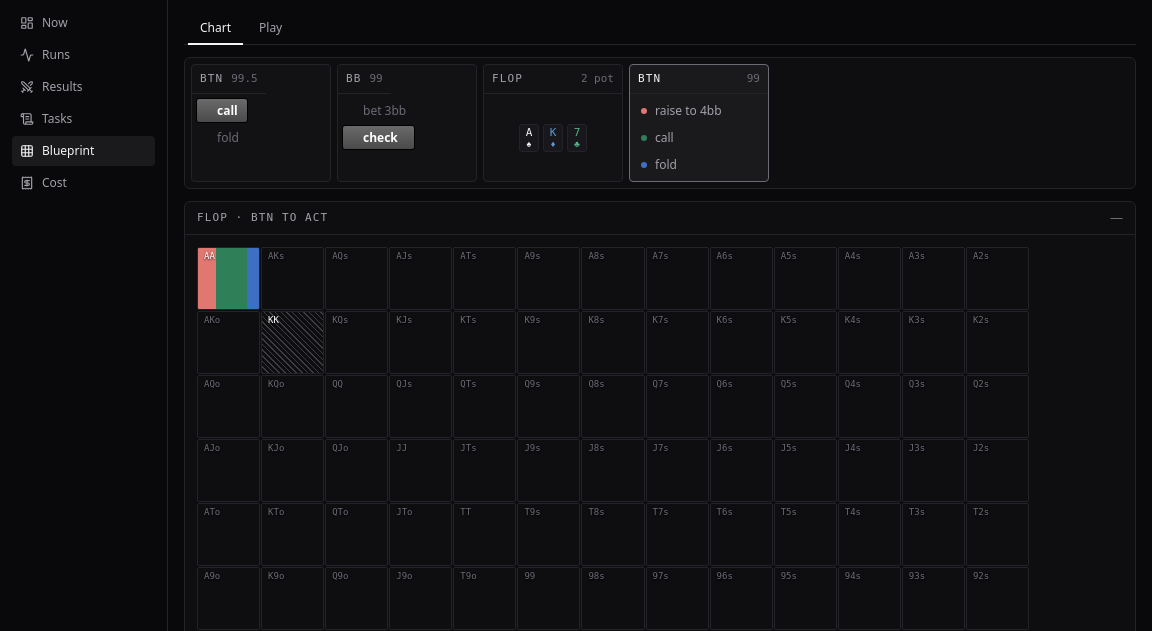
it: the chart, drawn › pins a hand into the rail when you click its square
The width and height of the screenshot is (1152, 631).
What coordinates should you click on to do the following:
click the button "AA"
I would click on:
 (229, 278)
Its box is [197,246,260,310].
(page scrolled)
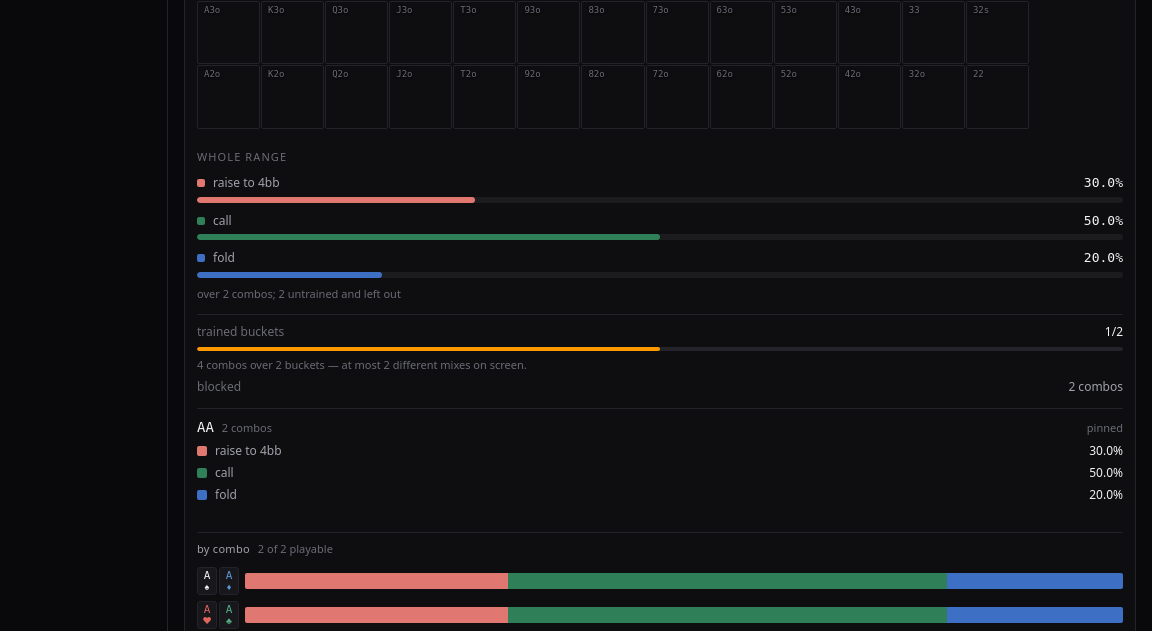
Expected: the text "pinned" is shown, [1087,420,1123,437]
